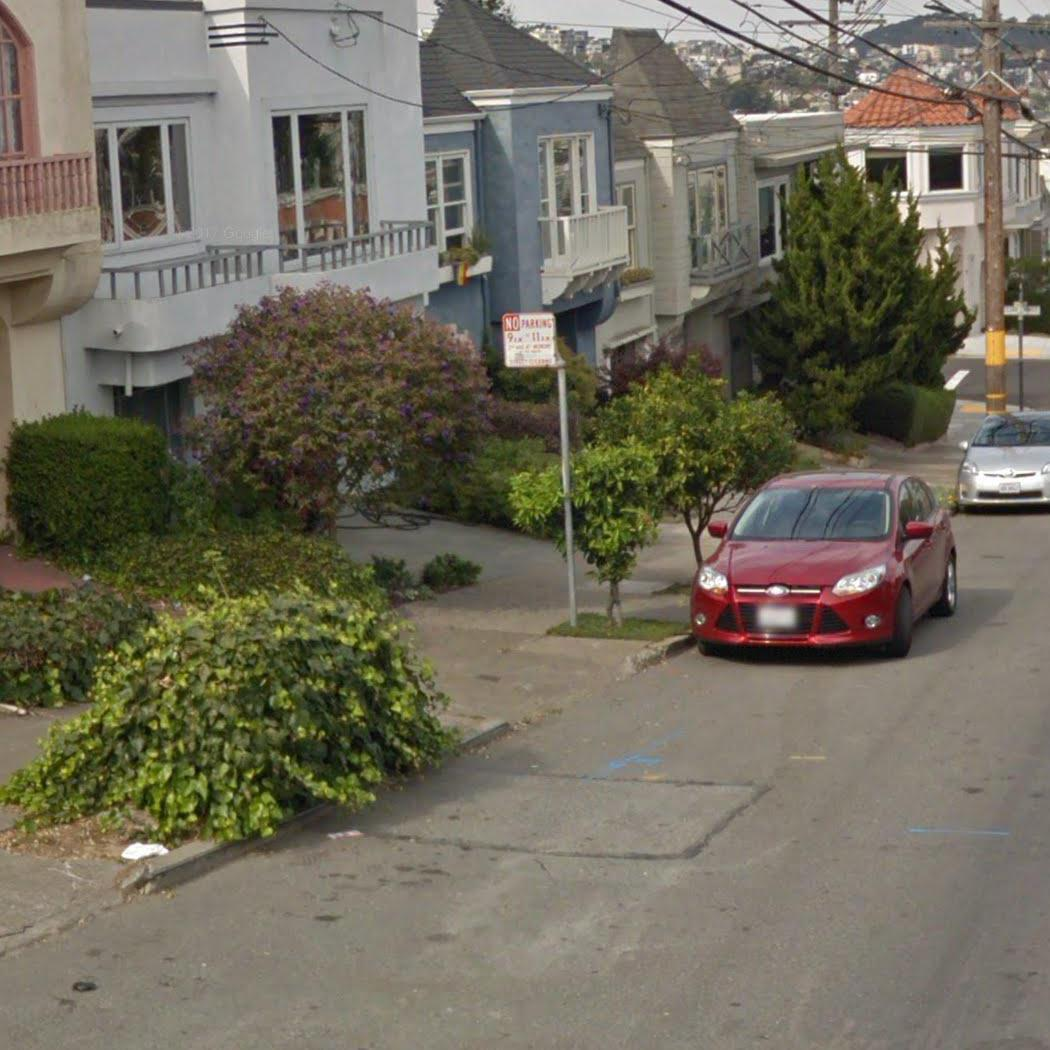No Parking: (500, 308, 562, 372)
